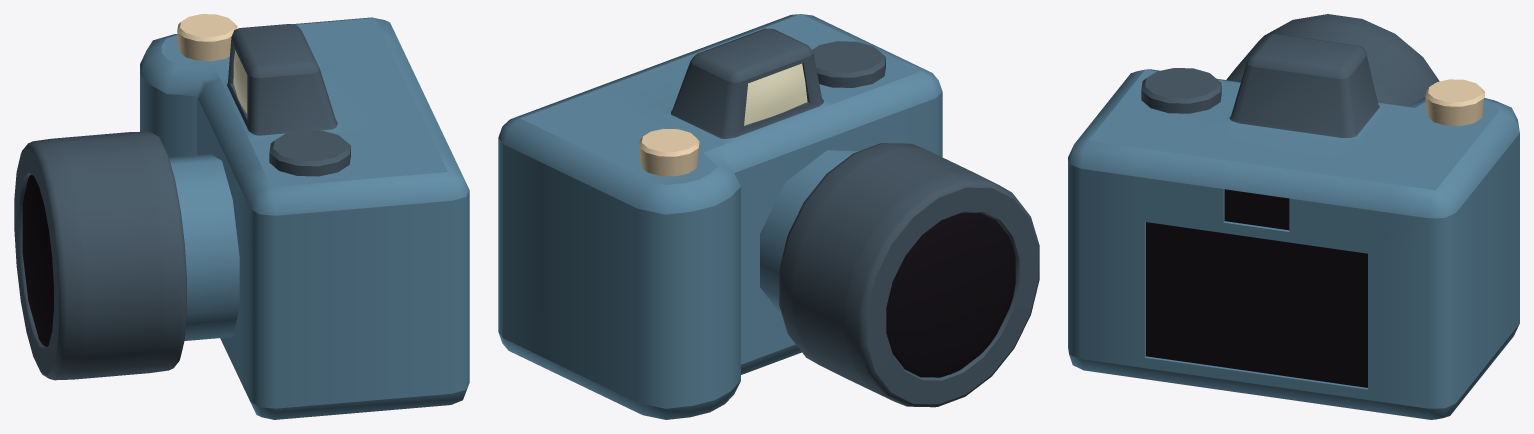
File: Camera.fbx
3 views of the same model, side by side, from view 1: azimuth 30°, elevation 25°; view 2: azimuth 150°, elevation 25°; view 3: azimuth 270°, elevation 25° (orthographic). The views are drawn at different scales.
Parts seen in each view (by area): view 1: Camera; view 2: Camera; view 3: Camera.
Boxes of the visible parts, x1,y1,x2,y2 form: Camera: [14, 14, 469, 419]; Camera: [498, 14, 1039, 419]; Camera: [1068, 14, 1519, 419].
Bounding box in the file's own units: 0.3905 × 0.253 × 0.3575.
